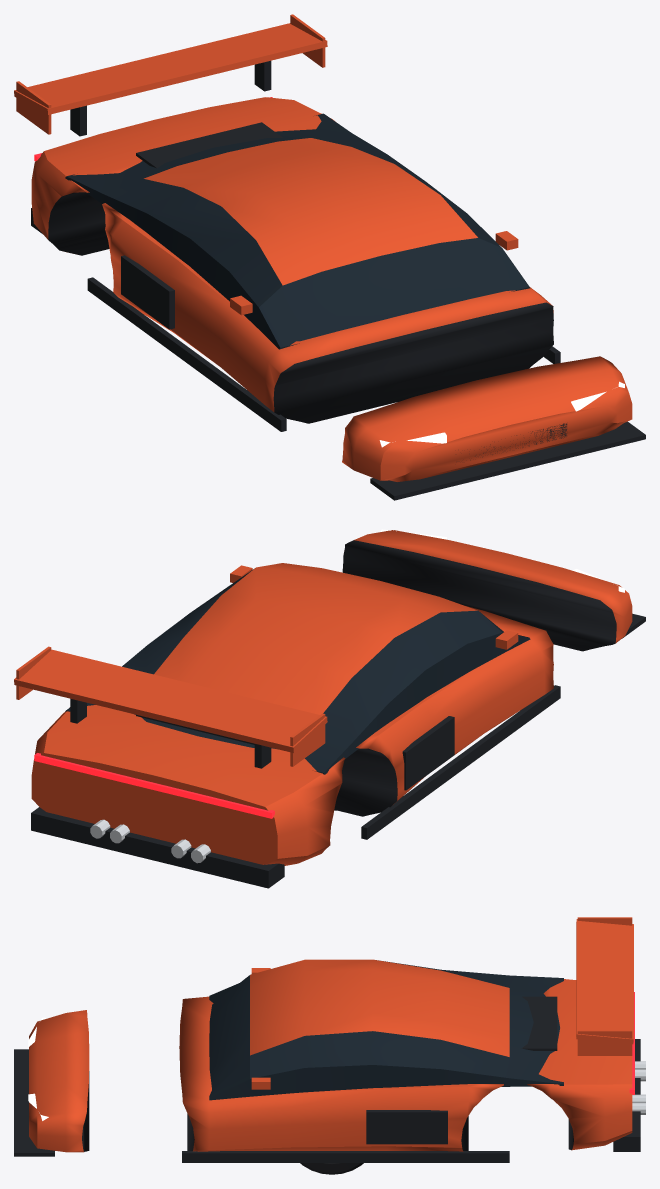
The model's file is super.glb.
The picture shows the model from 3 angles, top to bottom: view 1: azimuth 30°, elevation 25°; view 2: azimuth 150°, elevation 25°; view 3: azimuth 270°, elevation 25°; orthographic projection. The views are drawn at different scales.
Visible parts, largest first — view 1: body; view 2: body; view 3: body, wheel.
Part boxes in pixels (<box>): body: <box>14,14,645,500</box>; body: <box>14,529,645,888</box>; body: <box>14,917,645,1162</box>; wheel: <box>300,1163,363,1174</box>.
Bounding box in the file's own units: 2.04 × 1.57 × 4.63.
